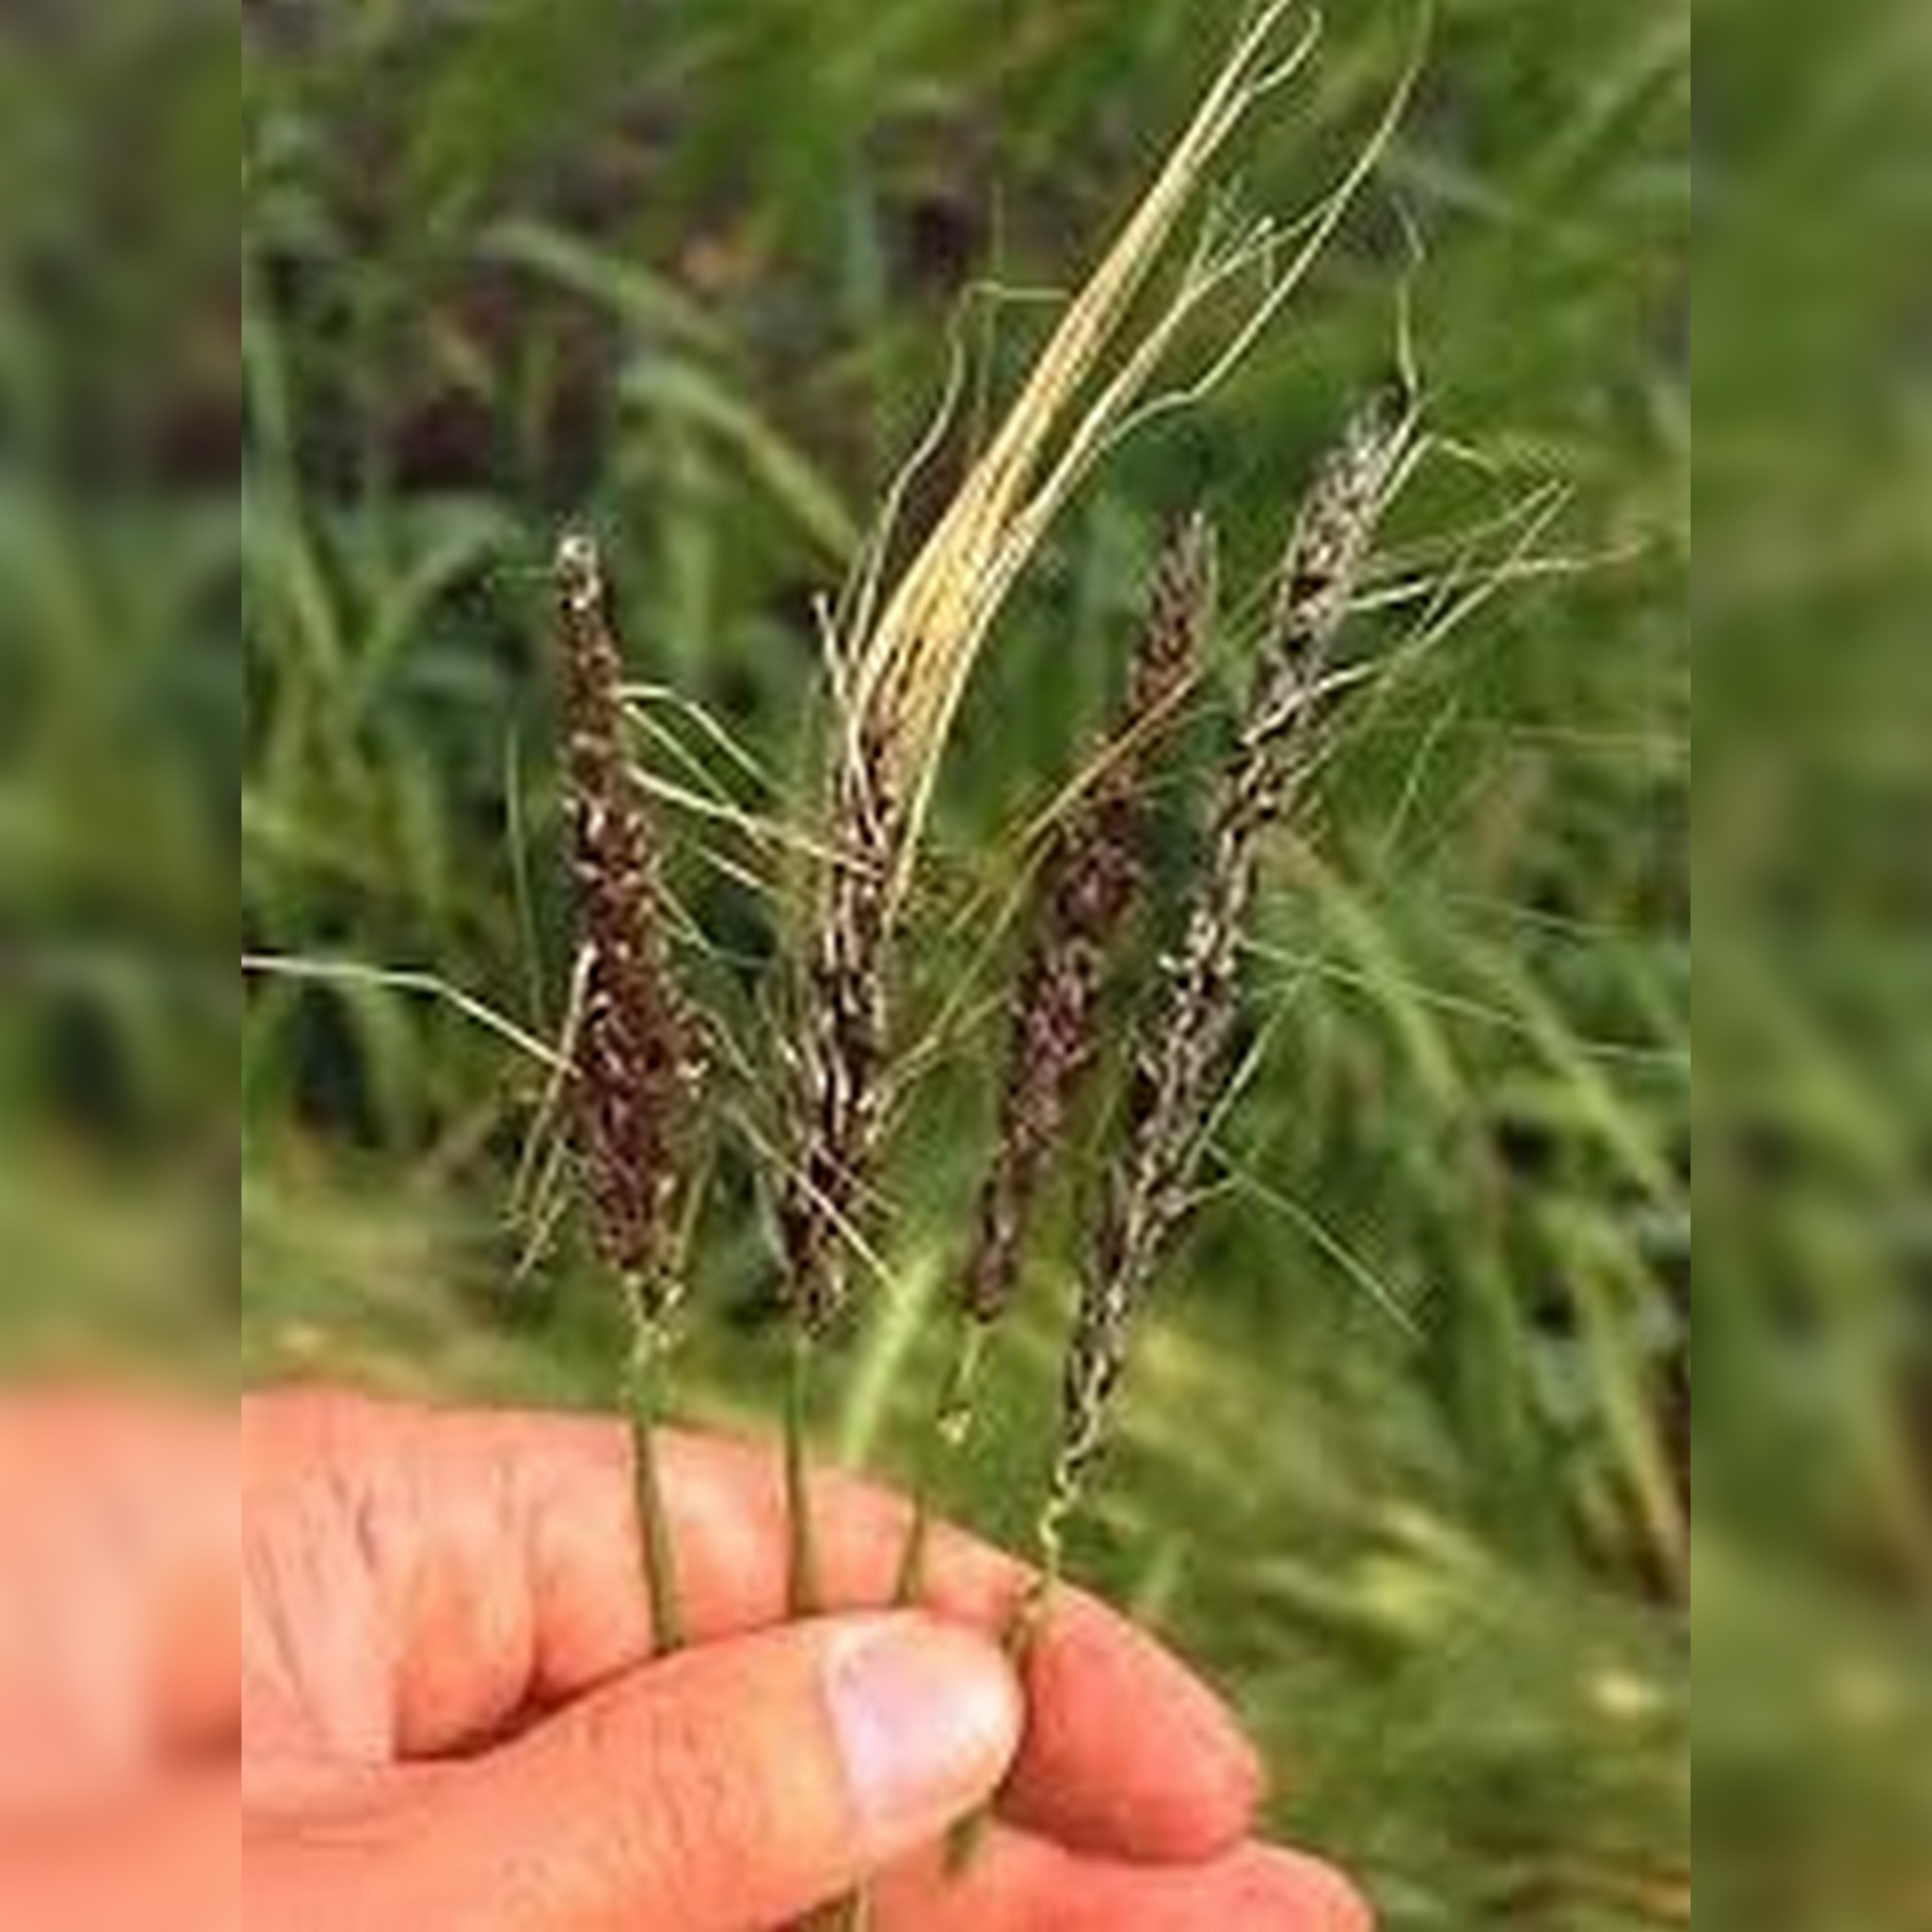Wheat Loose Smut: (478, 492, 1403, 1412)
